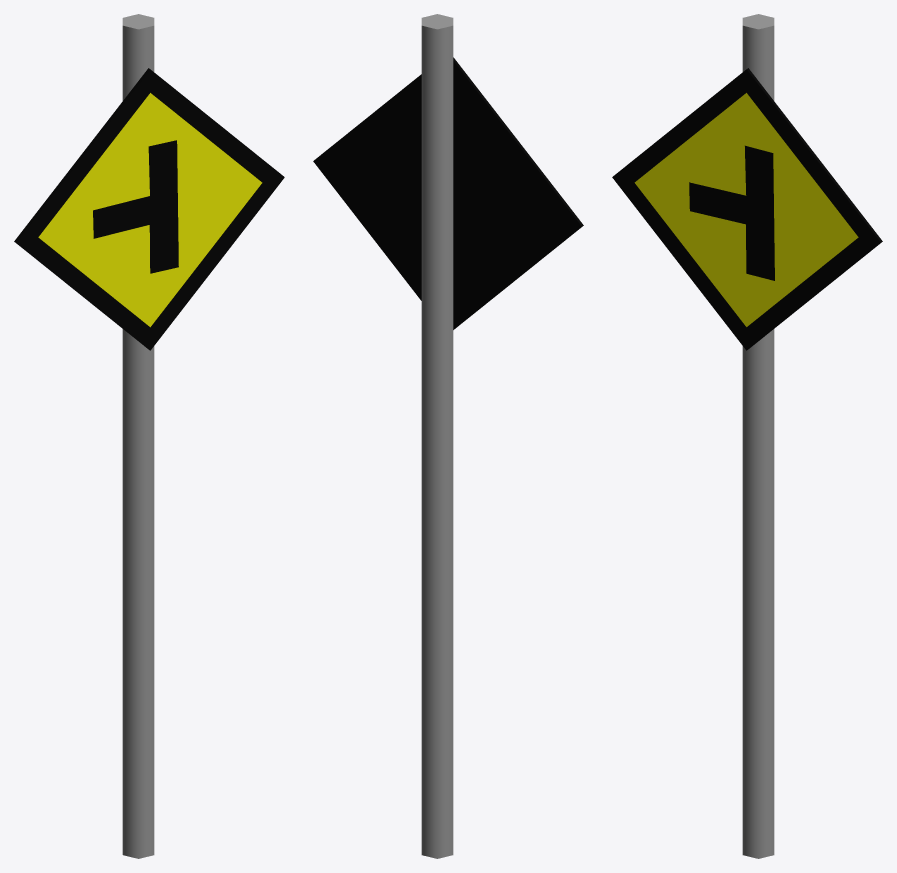
The model's file is t-junction road sign.FBX.
3 renders of one model, left to right at view 1: azimuth 30°, elevation 25°; view 2: azimuth 150°, elevation 25°; view 3: azimuth 330°, elevation 25°, orthographic.
Parts seen in each view (by area): view 1: t sign; view 2: t sign; view 3: t sign.
Boxes of the visible parts, x1=… form: t sign: x1=14, y1=14, x2=284, y2=858; t sign: x1=313, y1=14, x2=583, y2=858; t sign: x1=612, y1=14, x2=882, y2=858.
Size of the model in its own units: 33.41 by 98.43 by 4.26.
